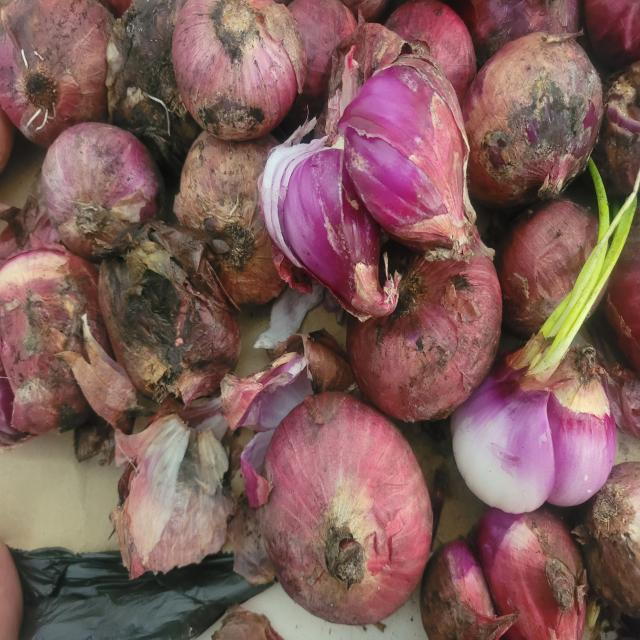mechanical_damage: (257, 23, 483, 328), (438, 345, 629, 538), (409, 512, 597, 640)
